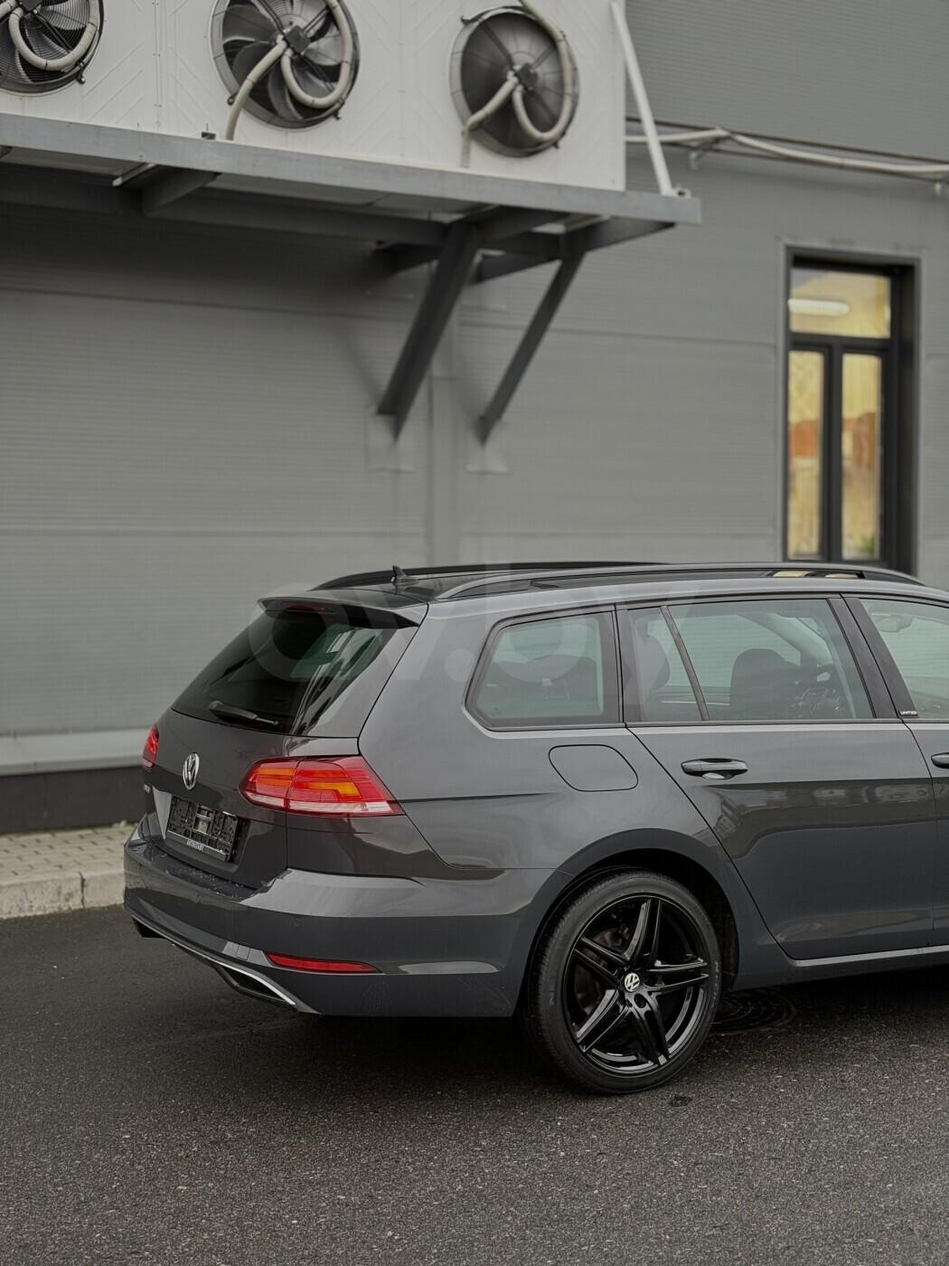Golf_2017-2021: (120, 554, 949, 1089)
